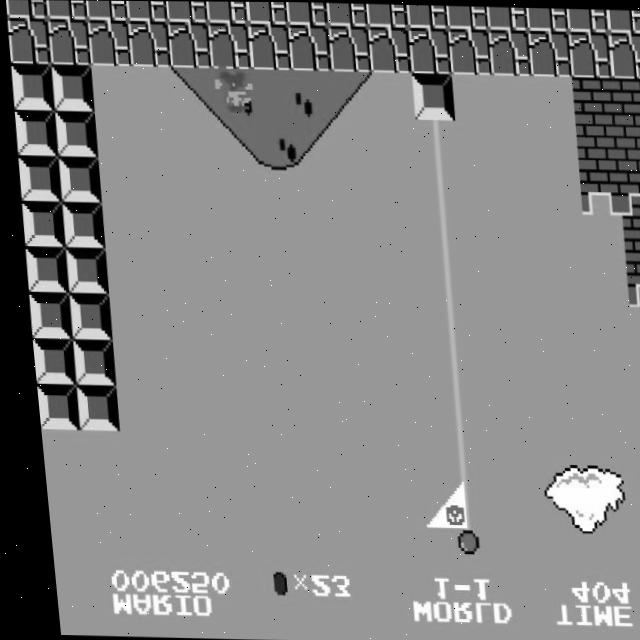11- little_mario: (208, 65, 256, 115)
17- undestructible_block: (85, 18, 131, 66), (165, 20, 211, 68), (45, 18, 91, 65), (125, 20, 171, 67), (526, 29, 572, 76), (566, 30, 612, 77), (246, 22, 291, 70), (326, 24, 371, 72), (406, 26, 451, 74), (206, 22, 251, 69), (286, 23, 331, 70), (366, 25, 411, 72), (446, 27, 491, 74), (486, 28, 531, 75), (6, 18, 50, 65), (605, 32, 640, 79), (485, 5, 528, 30), (565, 7, 608, 32), (325, 2, 368, 26), (365, 3, 408, 27), (405, 4, 448, 28), (445, 5, 488, 29), (525, 7, 568, 31), (245, 1, 288, 24), (285, 2, 328, 25), (205, 1, 248, 23), (165, 1, 208, 22), (125, 1, 168, 21), (45, 0, 87, 20), (85, 0, 127, 20), (604, 10, 640, 33), (5, 0, 46, 18)
7- goal_pole: (432, 483, 478, 531), (416, 209, 462, 257), (427, 392, 473, 439), (424, 346, 470, 393), (422, 300, 467, 348), (419, 256, 465, 302), (435, 529, 480, 576), (414, 164, 459, 211), (411, 118, 456, 165), (430, 438, 475, 484)
9- hard_block: (408, 72, 454, 120), (61, 292, 107, 339), (50, 109, 96, 156), (53, 156, 99, 202), (19, 247, 64, 294), (16, 201, 61, 248), (8, 64, 53, 111), (64, 338, 109, 385), (56, 201, 101, 248), (48, 64, 93, 111), (67, 384, 112, 430), (59, 247, 104, 293), (22, 292, 66, 338), (14, 156, 58, 202), (11, 110, 55, 156), (29, 383, 72, 430), (26, 337, 68, 384)
